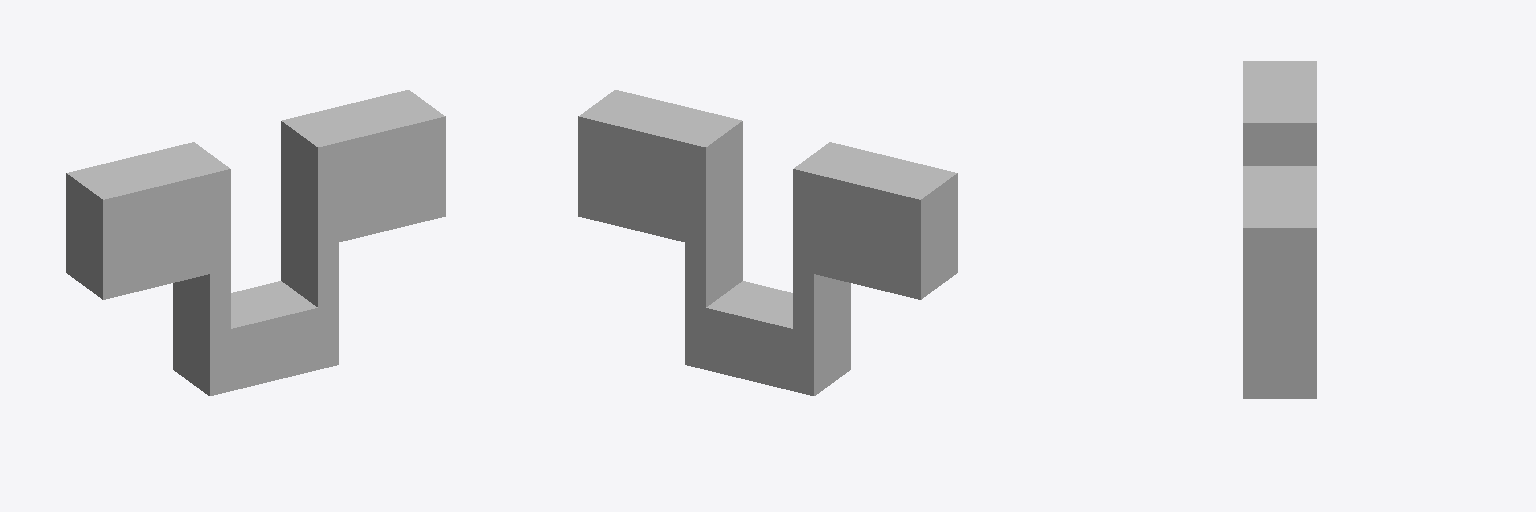
The model's file is inverted_u_yellow.obj.
3 views of the same model, side by side, from view 1: azimuth 30°, elevation 25°; view 2: azimuth 150°, elevation 25°; view 3: azimuth 270°, elevation 25° (orthographic).
Visible parts, largest first — view 1: Body1; view 2: Body1; view 3: Body1.
Boxes of the visible parts, box(x1,y1,x2,y2) form: Body1: box(66, 90, 445, 395); Body1: box(578, 90, 957, 395); Body1: box(1243, 61, 1316, 398).
Bounding box in the file's own units: 11.27 × 7 × 2.1.